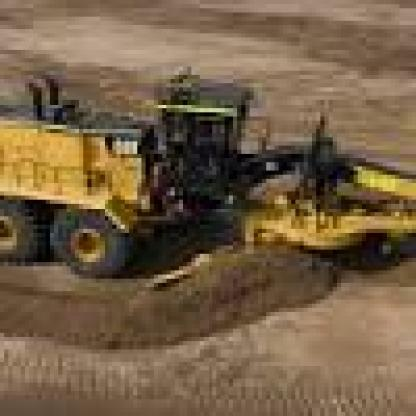bull_dozer/loader/grader: (29, 79, 412, 329)
